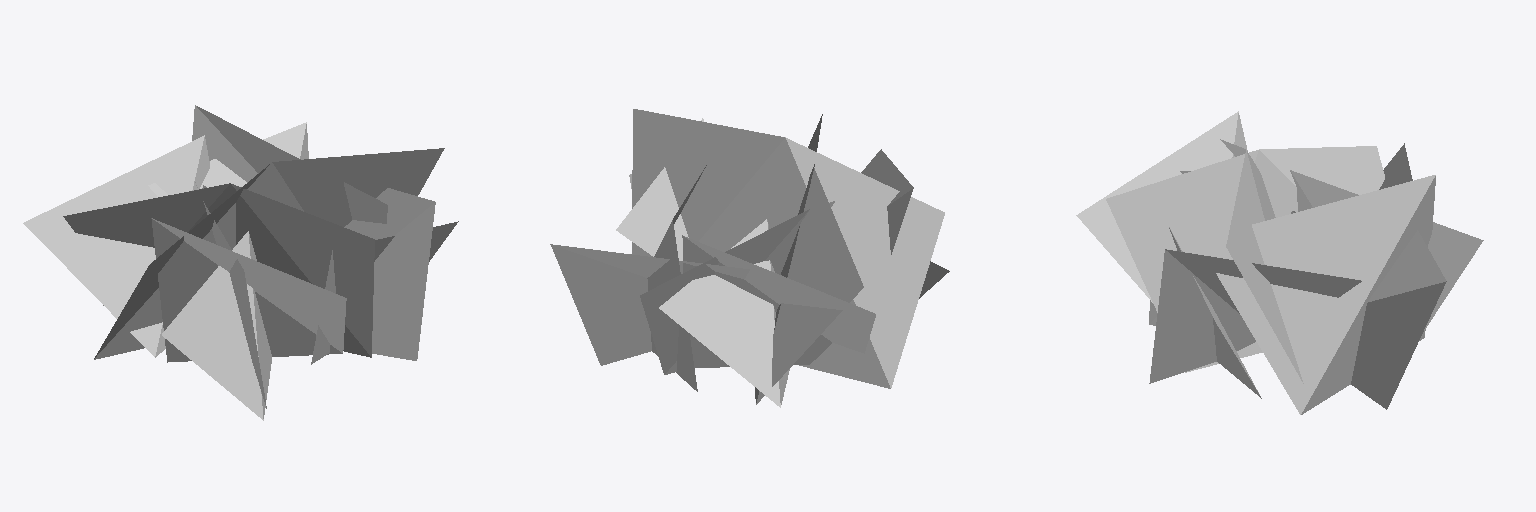
Rendered from frozenmarshgrassobj01.obj.
The picture shows the model from 3 angles: view 1: azimuth 30°, elevation 25°; view 2: azimuth 150°, elevation 25°; view 3: azimuth 270°, elevation 25°; orthographic projection.
Parts seen in each view (by area): view 1: MarshGrassObj01_0; view 2: MarshGrassObj01_0; view 3: MarshGrassObj01_0.
Boxes of the visible parts, box(x1,y1,x2,y2) form: MarshGrassObj01_0: box(23, 105, 458, 420); MarshGrassObj01_0: box(550, 109, 949, 407); MarshGrassObj01_0: box(1076, 111, 1483, 414).
Bounding box in the file's own units: 100 × 59.78 × 104.